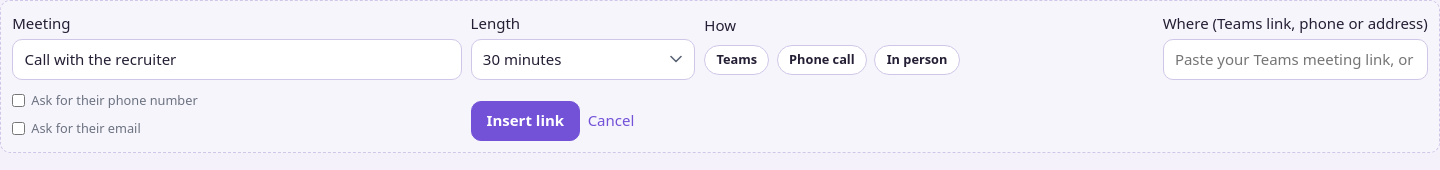
booking link in an email › a phone call asks for their number; their email can be asked for too
This screenshot has width=1440, height=170.
Later steps or results of the test are not shown.
Click the button "Phone call".
click(822, 60)  # box [777,45,867,75]
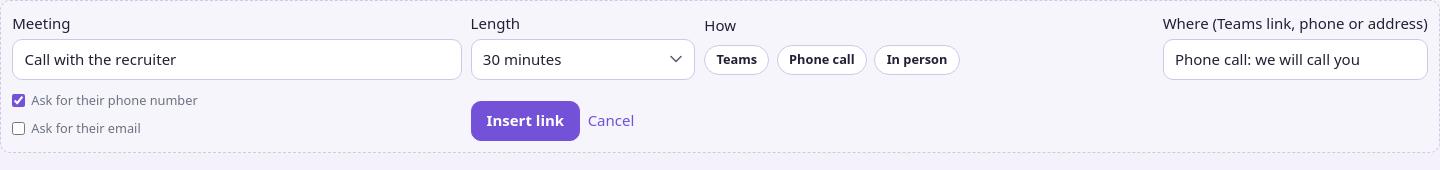
Result: the field labelled "Where (Teams link, phone or address)" holds "Phone call: we will call you" at [1163,39,1428,80]
Result: the checkbox labelled "Ask for their phone number" is checked at [12,93,25,108]
